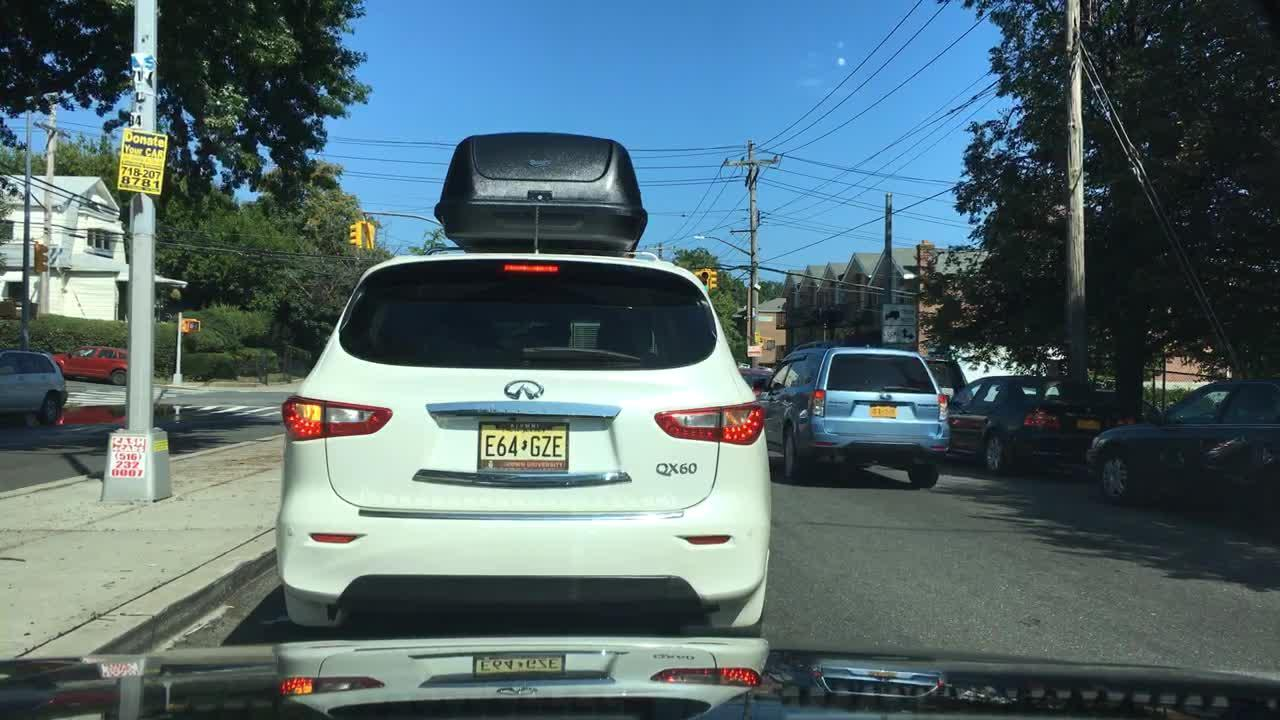Infiniti: (498, 376, 546, 403)
